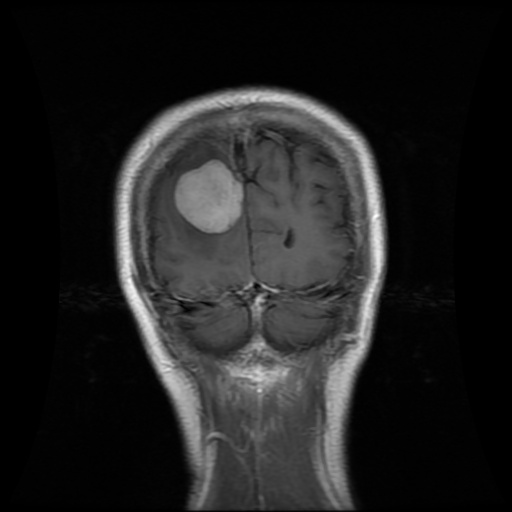meningioma: (175, 159, 243, 232)
